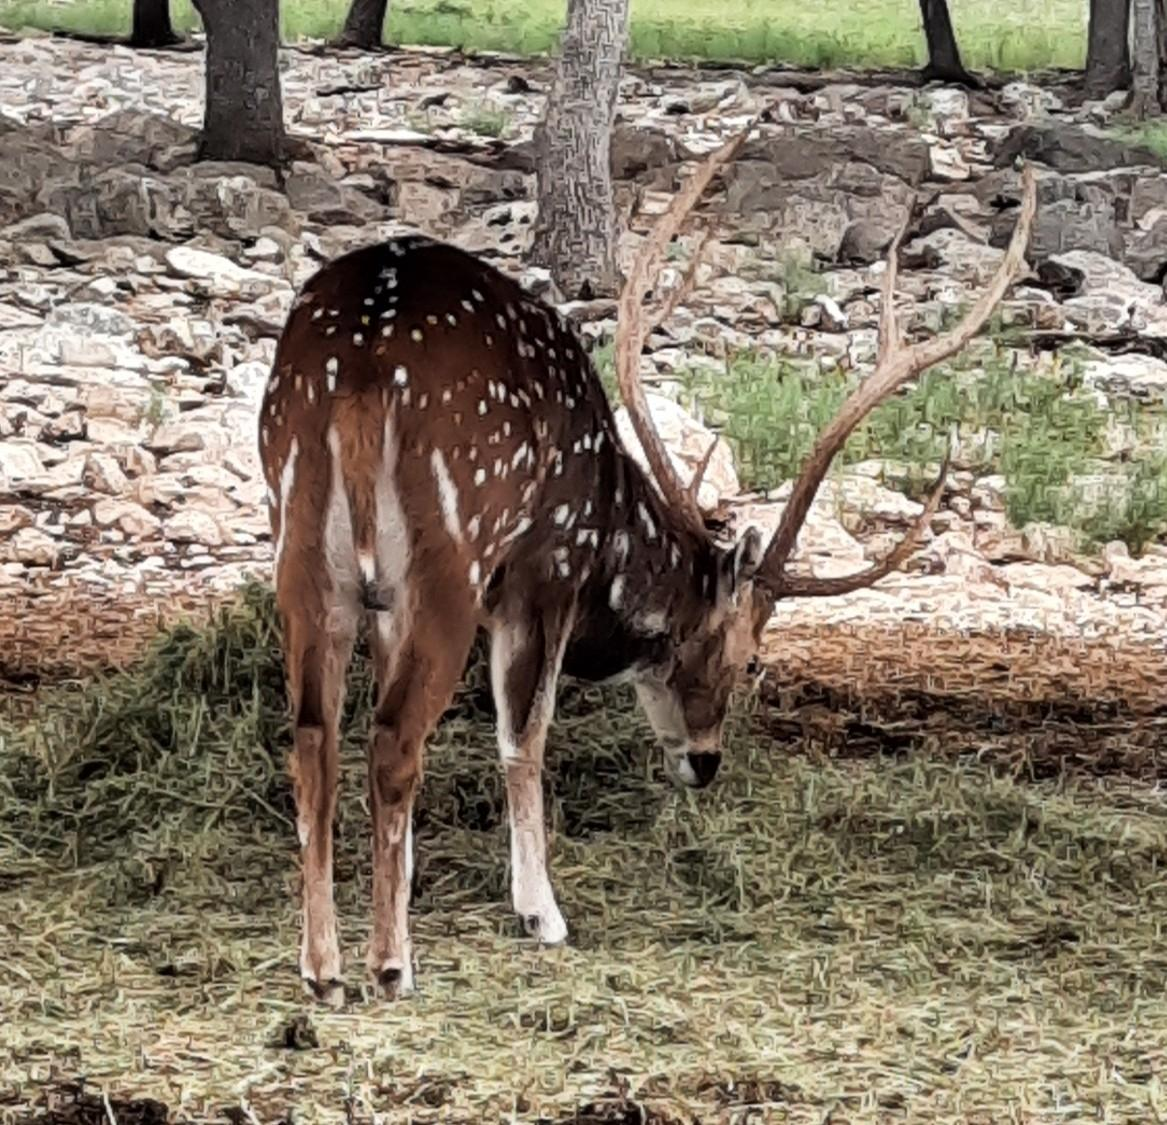Deer: (258, 129, 1035, 999)
